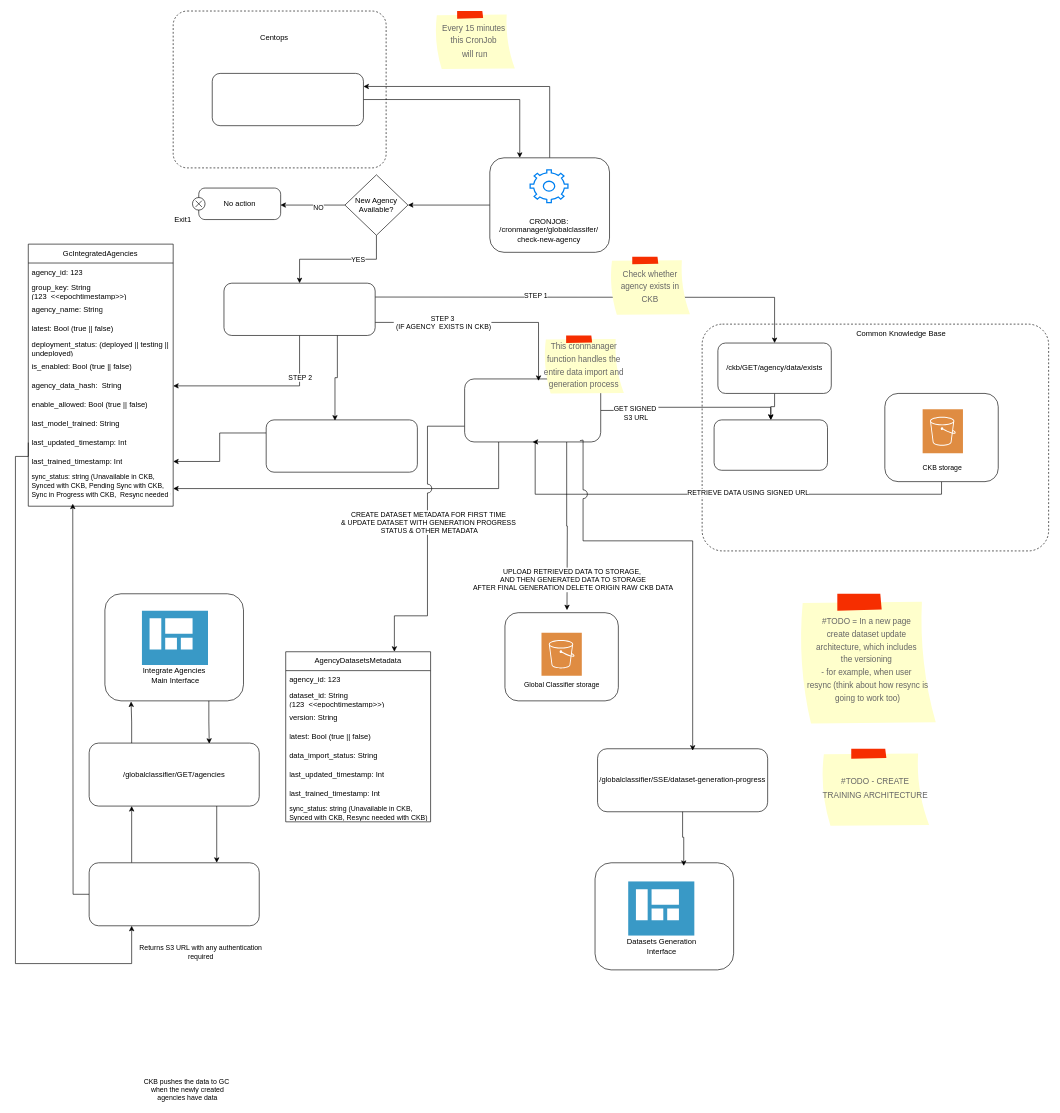
This 1060x1113 diagram has some shape labels left out. The centre of each missing label's shape, as x and y in pixels:
"/ckb/GET/agency/data/import/url" goes at (770,444).
"/globalclassifier/GET/agency/update /ckb/status" goes at (341,445).
"/globalclassifier/POST/agency/integrate" goes at (299,309).
"/globalclassifier/POST/cronmanager /agency/data/generate" goes at (532,410).
"/globalclassifier/resql/get-integrated-agency" goes at (174,894).
"GET:: /centops/api/v1/agencies/new" goes at (287,99).
